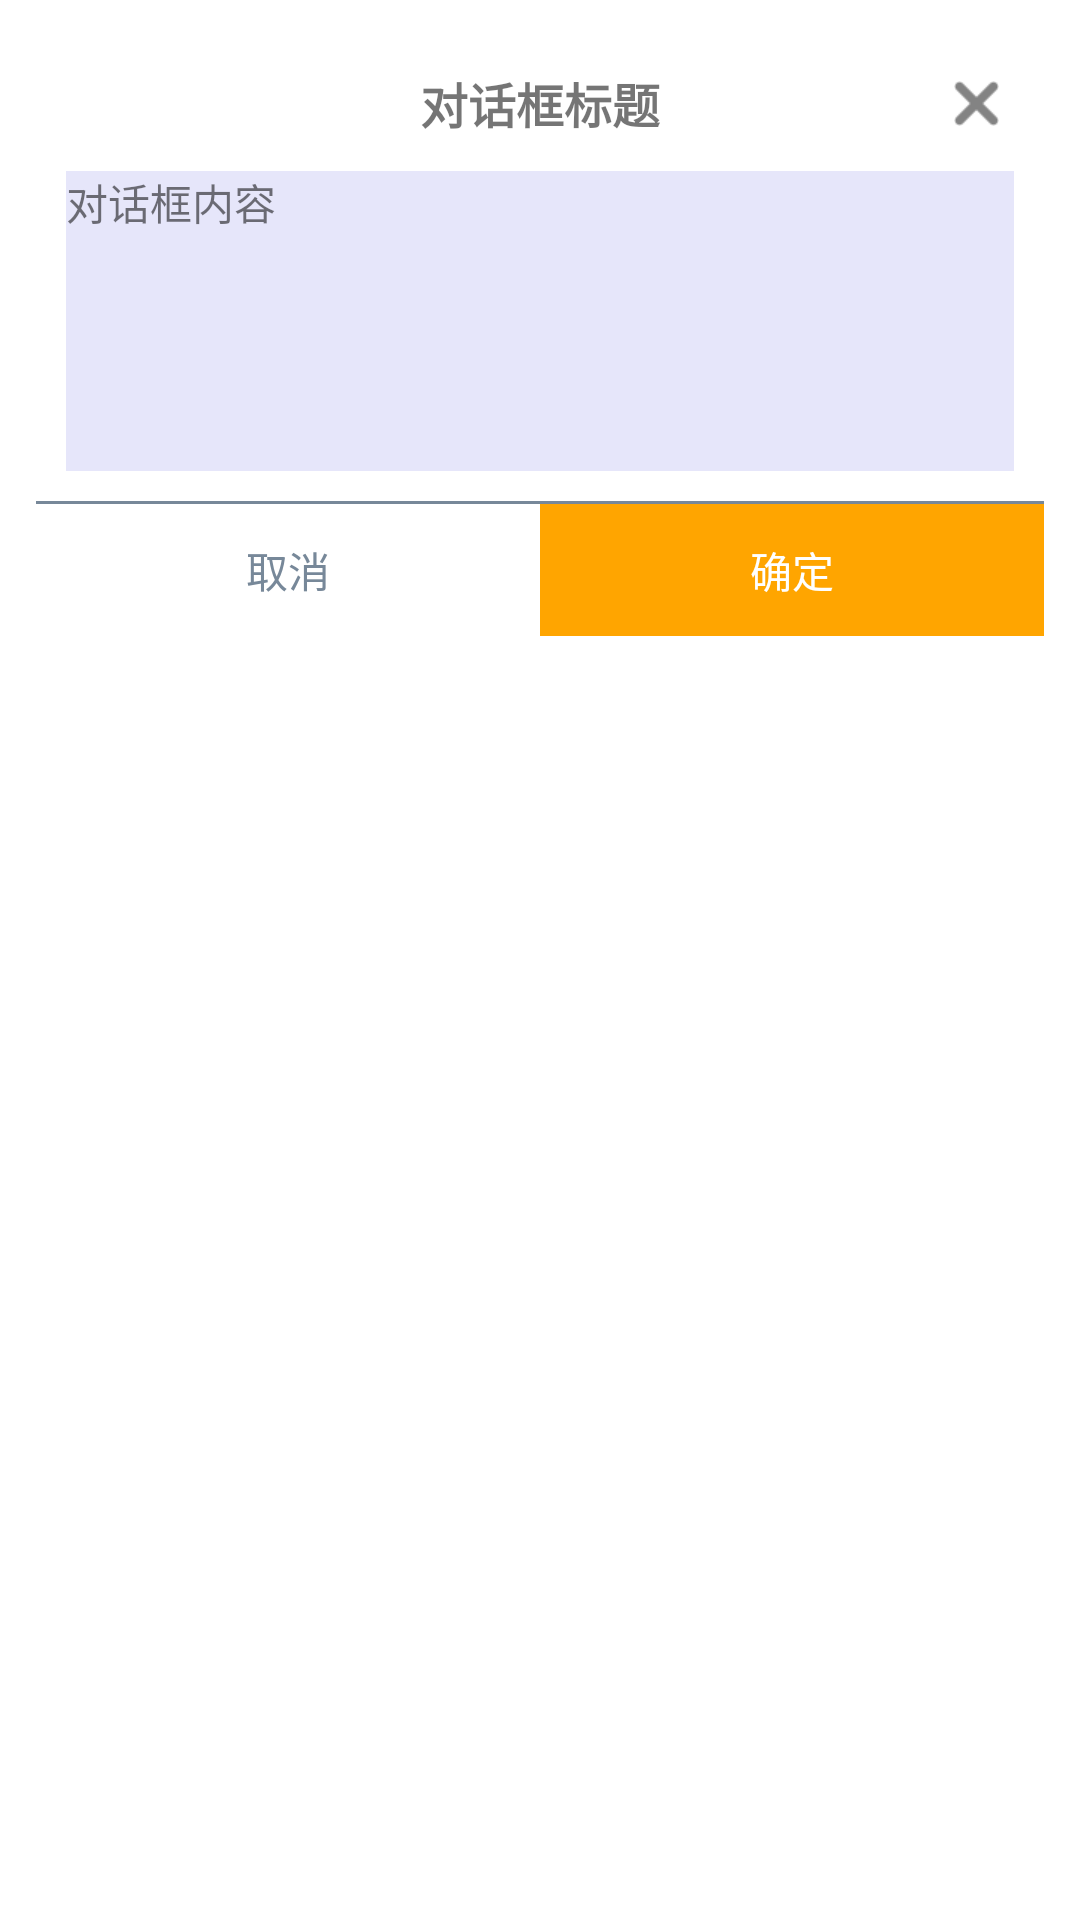

Where to tap for icons on this 1080px x 1920px app screen, as [x,y]:
close: [976,103]
